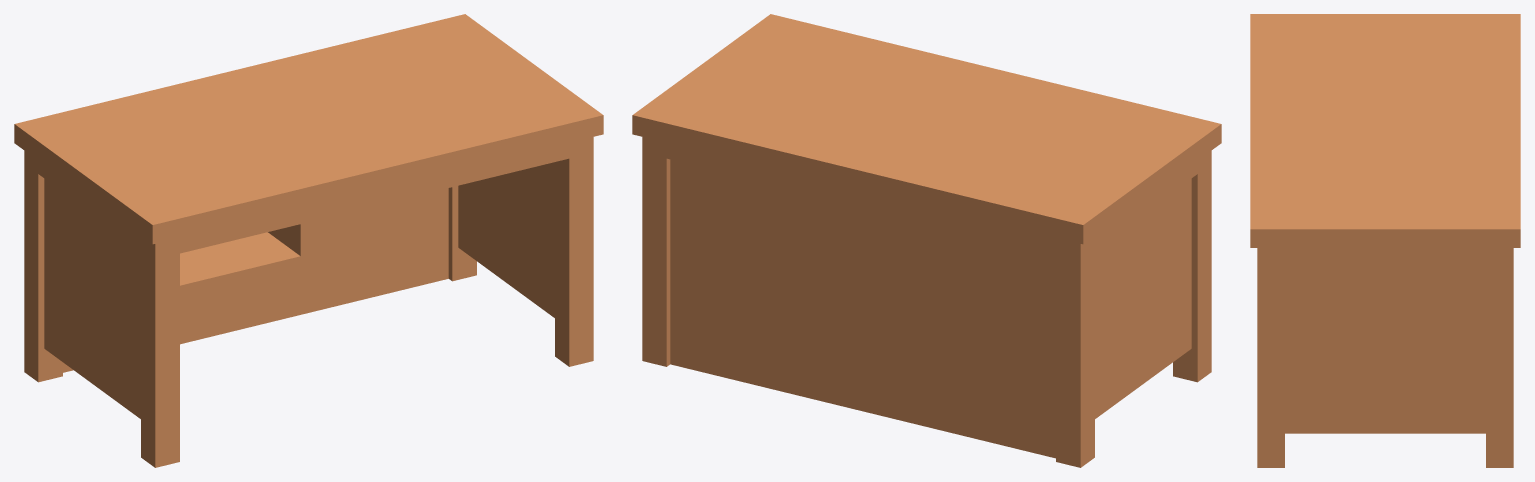
File: desk.glb
The picture shows the model from 3 angles, left to right: view 1: azimuth 30°, elevation 25°; view 2: azimuth 150°, elevation 25°; view 3: azimuth 270°, elevation 25°; orthographic projection. The views are drawn at different scales.
Visible parts, largest first — view 1: desk; view 2: desk; view 3: desk.
Part boxes in pixels (bbox=[...]): desk: bbox=[14, 14, 603, 467]; desk: bbox=[632, 14, 1221, 467]; desk: bbox=[1250, 14, 1520, 467].
Size of the model in its own units: 1.48 by 0.7771 by 0.7884.
